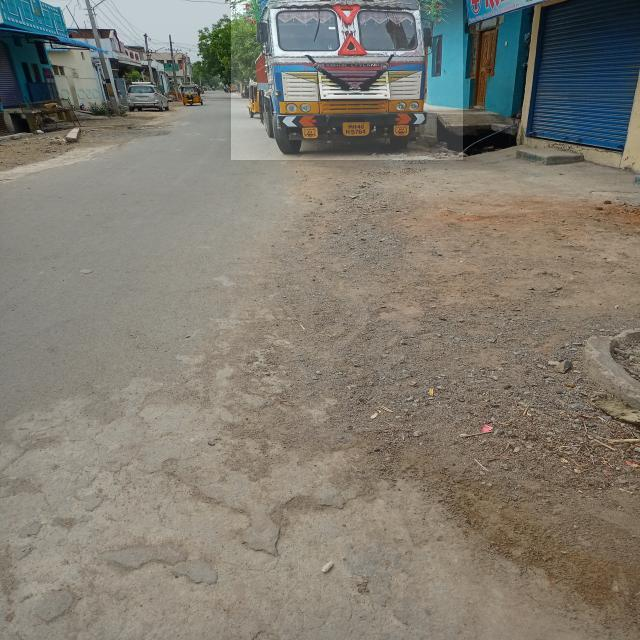Truck: (231, 0, 463, 160)
